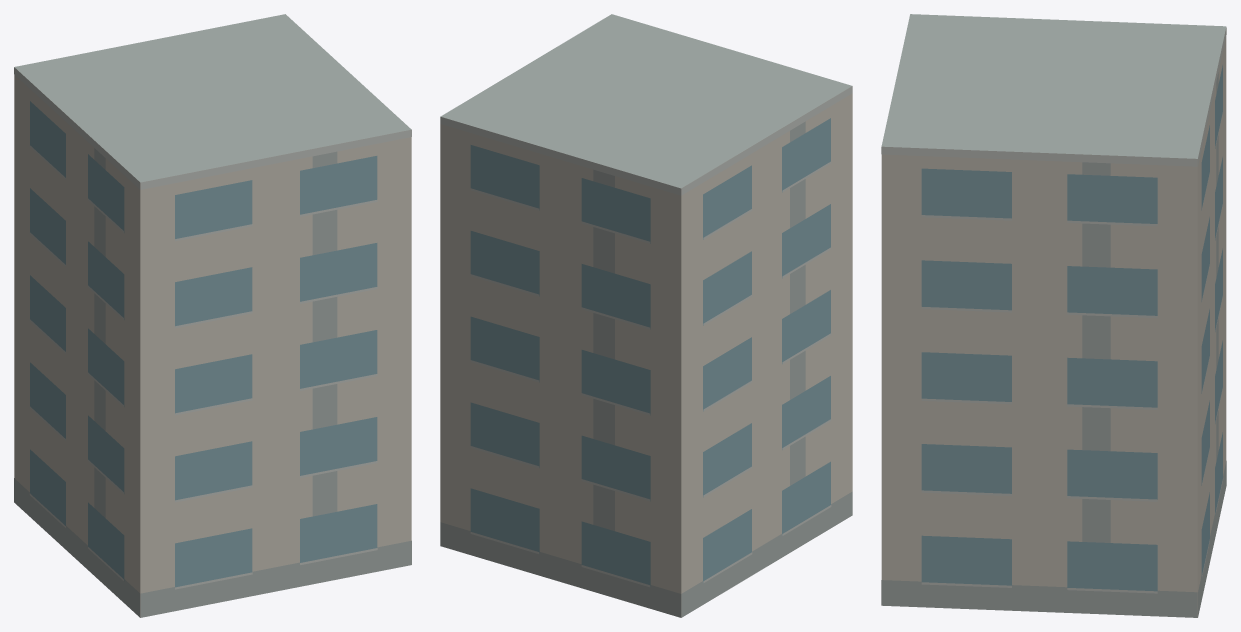
The model's file is survey-upis-32636689.glb.
3 renders of one model, left to right at view 1: azimuth 30°, elevation 25°; view 2: azimuth 150°, elevation 25°; view 3: azimuth 270°, elevation 25°, orthographic. The views are drawn at different scales.
Parts seen in each view (by area): view 1: survey-upis-32636689.tmp; view 2: survey-upis-32636689.tmp; view 3: survey-upis-32636689.tmp.
Part boxes in pixels (bbox=[...]): survey-upis-32636689.tmp: bbox=[14, 14, 411, 617]; survey-upis-32636689.tmp: bbox=[440, 14, 852, 617]; survey-upis-32636689.tmp: bbox=[881, 14, 1226, 617].
Size of the model in its own units: 9.69 by 14.3 by 9.75.
